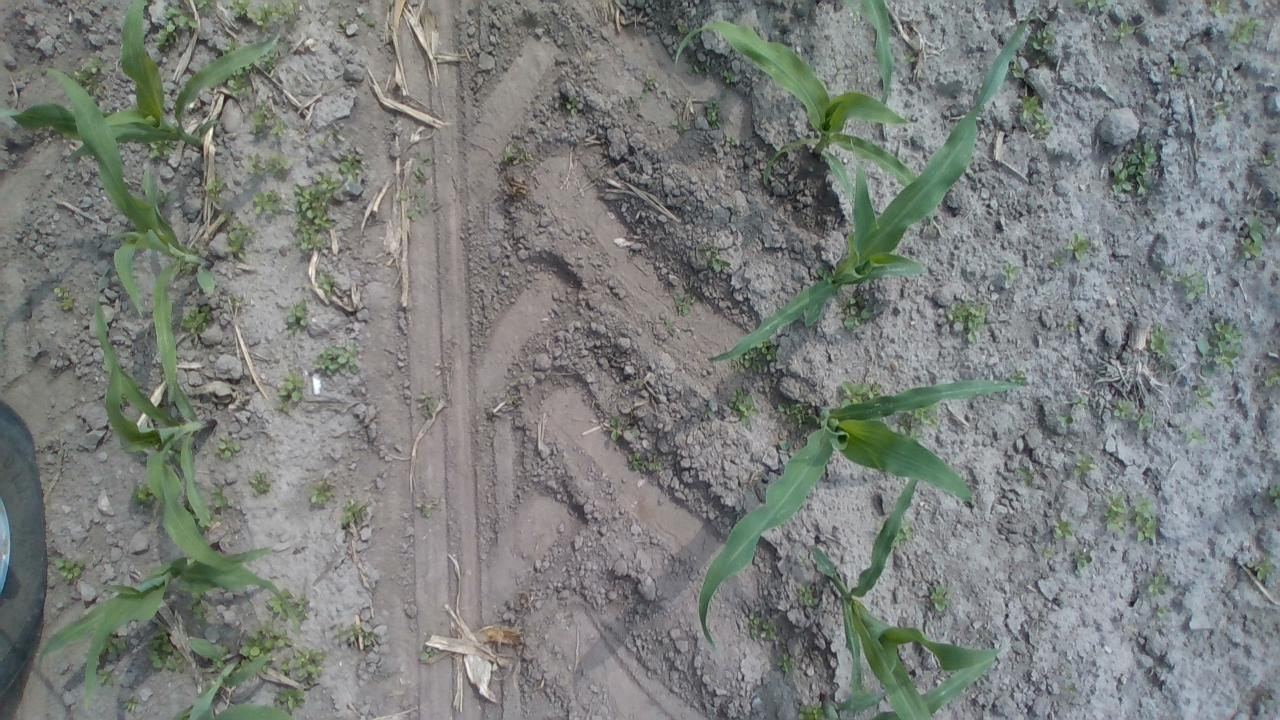Maize: (704, 22, 1033, 358), (696, 382, 1021, 648), (44, 66, 215, 408), (92, 292, 274, 572), (1, 0, 280, 168), (811, 480, 1003, 720), (676, 14, 926, 194), (38, 552, 294, 706), (818, 657, 988, 720), (174, 634, 292, 720), (844, 0, 894, 109)
Weeds: (294, 169, 341, 257), (275, 646, 325, 714), (238, 621, 293, 672), (1197, 322, 1247, 376), (1112, 142, 1158, 196), (145, 622, 188, 676), (268, 583, 309, 635), (153, 7, 200, 47), (896, 400, 938, 442), (946, 301, 986, 345), (732, 338, 778, 374), (1016, 94, 1052, 139), (312, 343, 362, 375), (73, 56, 107, 98), (1163, 268, 1206, 301), (727, 386, 761, 426), (776, 401, 821, 431), (222, 221, 256, 260), (840, 294, 874, 332), (250, 0, 298, 26), (249, 104, 288, 136), (1227, 16, 1264, 49), (277, 372, 306, 414), (838, 380, 881, 408), (1134, 496, 1160, 541), (246, 152, 289, 178), (1026, 29, 1056, 66), (178, 303, 212, 335), (339, 150, 369, 186), (1102, 494, 1126, 539), (336, 622, 376, 648), (1240, 216, 1264, 259), (250, 188, 284, 217), (399, 189, 427, 222), (184, 590, 208, 628), (1244, 554, 1276, 582), (747, 612, 778, 640), (54, 556, 86, 582), (628, 452, 664, 473), (306, 478, 332, 507), (1064, 233, 1090, 261), (286, 302, 308, 334), (704, 248, 732, 272), (340, 502, 368, 526), (928, 586, 952, 614), (228, 66, 250, 96), (1148, 325, 1168, 357), (704, 95, 722, 130), (1072, 455, 1098, 479), (132, 481, 154, 509), (1072, 0, 1116, 13), (248, 471, 272, 494), (52, 286, 75, 310), (216, 432, 238, 457), (1111, 22, 1136, 44), (892, 519, 914, 544), (676, 289, 696, 316), (798, 582, 818, 609), (1196, 384, 1216, 411), (150, 139, 178, 158), (999, 262, 1021, 286), (1146, 574, 1168, 598), (798, 702, 826, 720), (208, 487, 228, 512), (637, 78, 657, 103), (417, 390, 434, 419), (207, 175, 225, 202), (1052, 519, 1074, 540), (214, 640, 229, 670), (317, 270, 334, 296), (1112, 399, 1134, 419), (195, 512, 219, 530), (1208, 0, 1230, 18), (608, 415, 623, 441), (504, 146, 528, 162), (106, 638, 130, 654), (1007, 369, 1028, 387), (228, 0, 250, 17), (1073, 552, 1090, 574), (1168, 61, 1186, 81), (1263, 368, 1280, 388), (1017, 466, 1033, 487), (222, 38, 240, 56), (96, 668, 112, 688), (156, 191, 176, 206), (1009, 61, 1026, 78), (777, 654, 793, 672), (1136, 413, 1154, 429), (1056, 414, 1074, 430), (1186, 430, 1206, 444), (169, 441, 181, 464), (122, 696, 138, 712), (671, 120, 689, 134), (1260, 152, 1278, 166), (566, 96, 578, 116), (688, 62, 706, 75), (258, 55, 273, 70), (816, 266, 832, 280), (1048, 254, 1064, 268), (1216, 103, 1230, 118), (1072, 397, 1088, 410), (196, 0, 213, 11), (850, 3, 864, 16), (902, 50, 916, 63), (422, 648, 437, 660), (1155, 606, 1170, 618), (723, 135, 737, 147), (1067, 318, 1079, 332), (1042, 545, 1054, 559), (414, 166, 426, 179), (722, 70, 734, 82), (679, 20, 691, 32), (1269, 486, 1280, 498), (32, 126, 44, 136), (360, 10, 370, 22)
